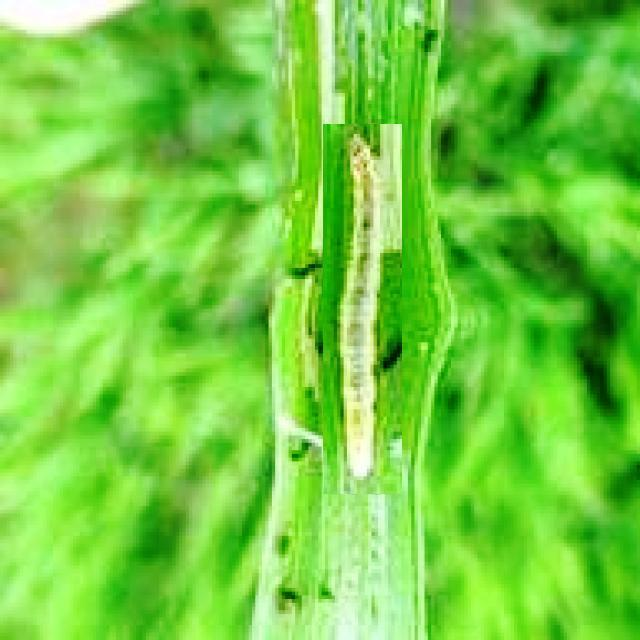leaf-folder: (323, 124, 402, 494)
